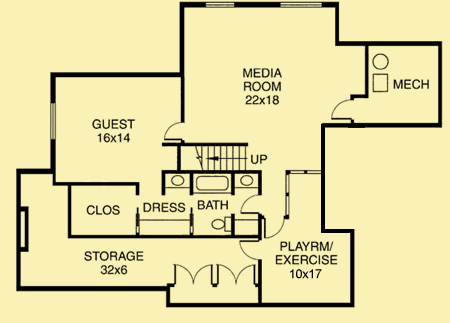door: (215, 261, 257, 288), (171, 262, 215, 285), (261, 215, 285, 240), (330, 98, 354, 121), (239, 193, 261, 217), (163, 119, 182, 144)
large sink: (209, 215, 232, 233)
small sink: (162, 172, 191, 190), (232, 171, 259, 190)
stairs: (178, 143, 268, 173)
tub: (191, 173, 233, 196)
windows: (47, 100, 58, 141), (278, 1, 324, 10), (201, 1, 237, 10), (288, 168, 322, 177)
